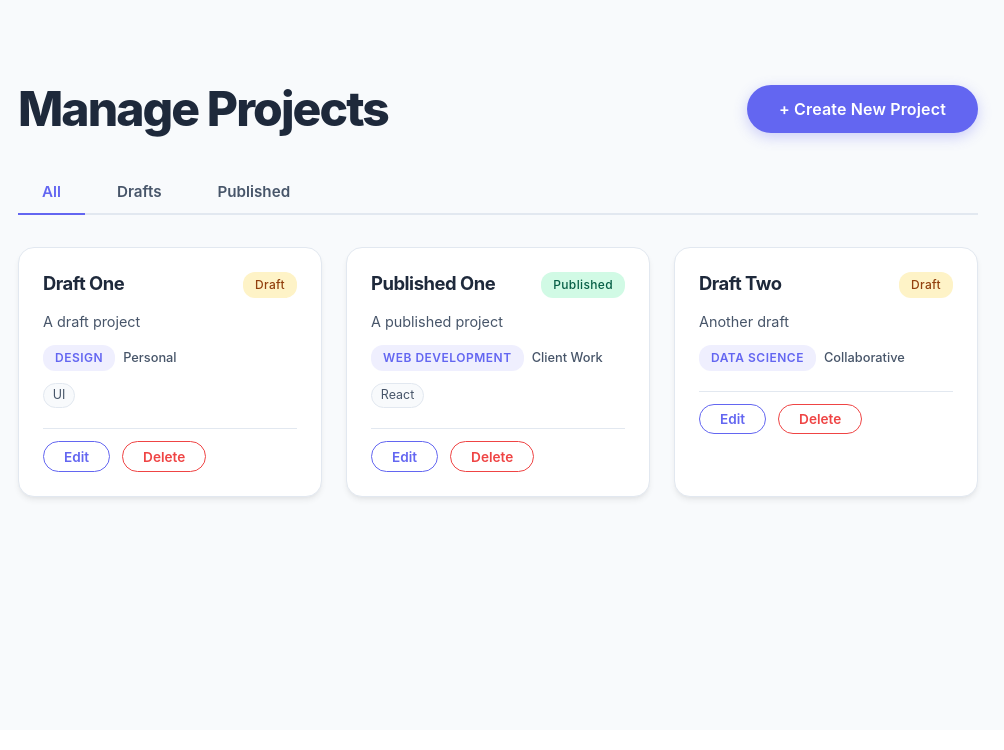
ProjectsManager › Create project › hides form when cancel is clicked
Click the button "+ Create New Project" at (862, 109), box [747, 85, 978, 133]
(page scrolled)
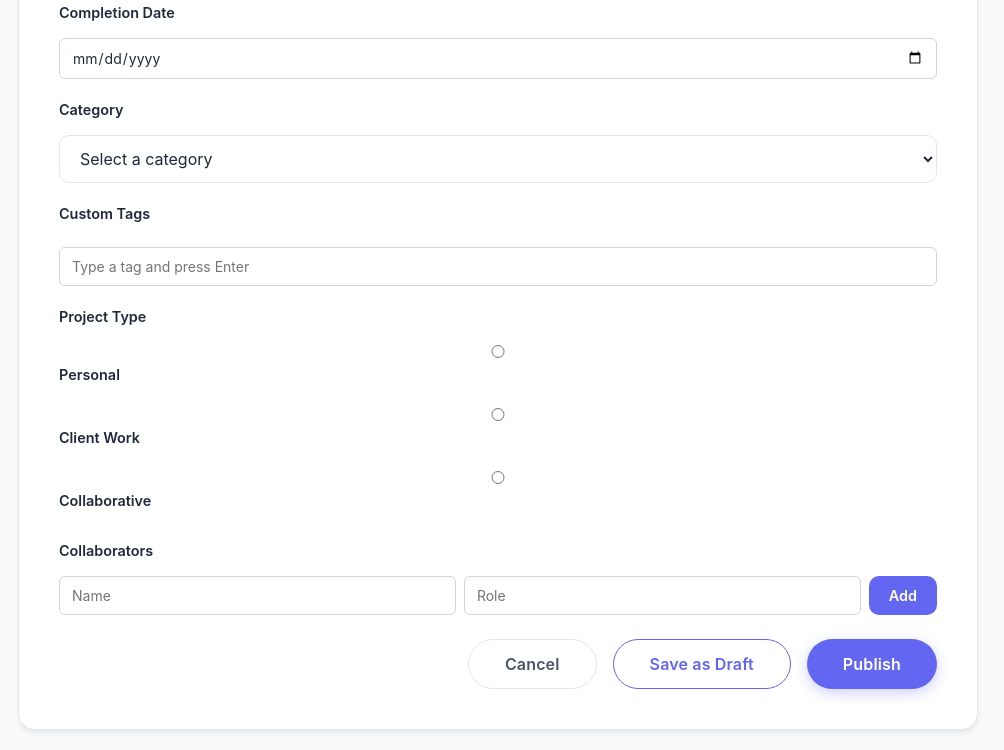
Click the button "Cancel" at (532, 664), box [468, 639, 597, 689]
(page scrolled)
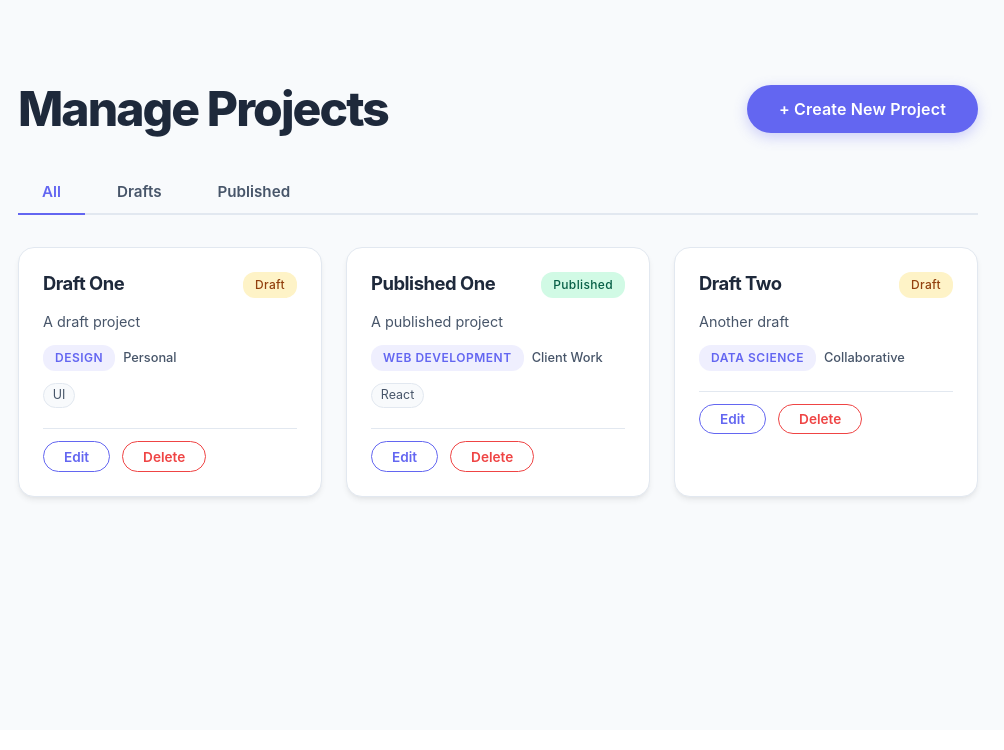
Result: the button "+ Create New Project" is shown at [747, 85, 978, 133]
